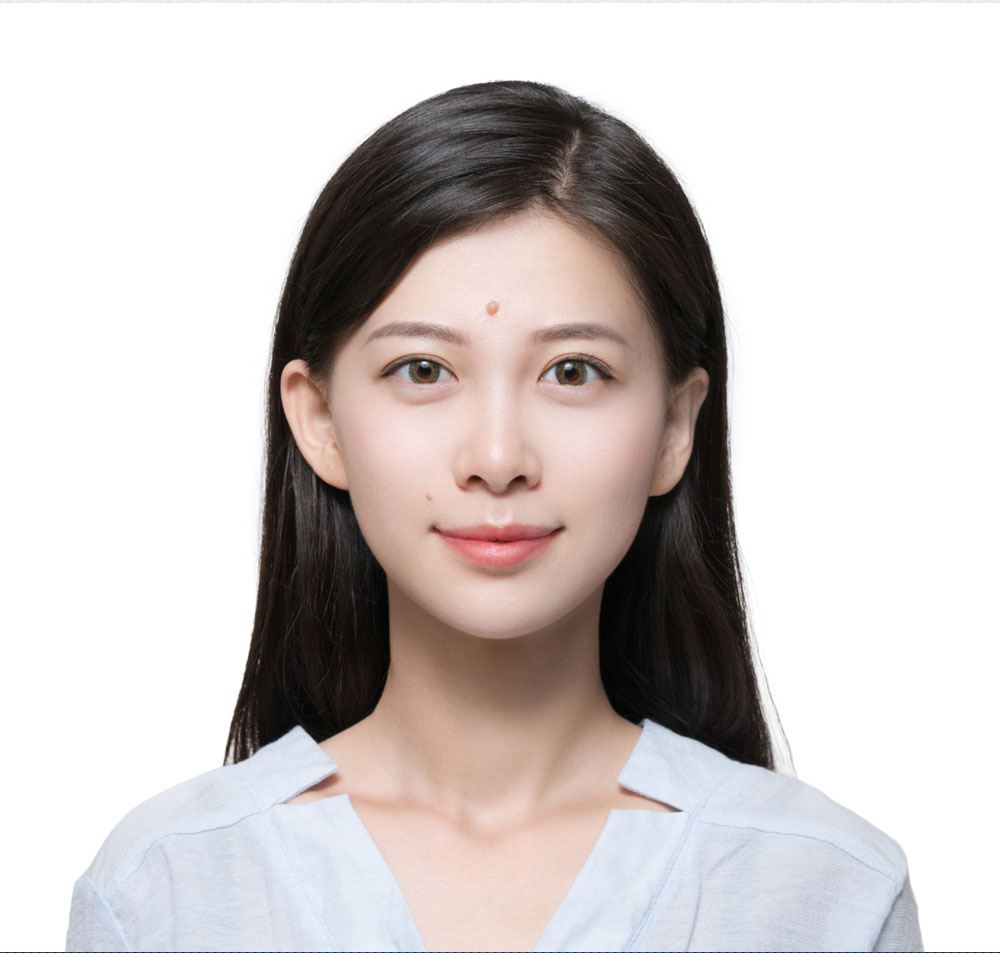unmask: (345, 224, 636, 616)
